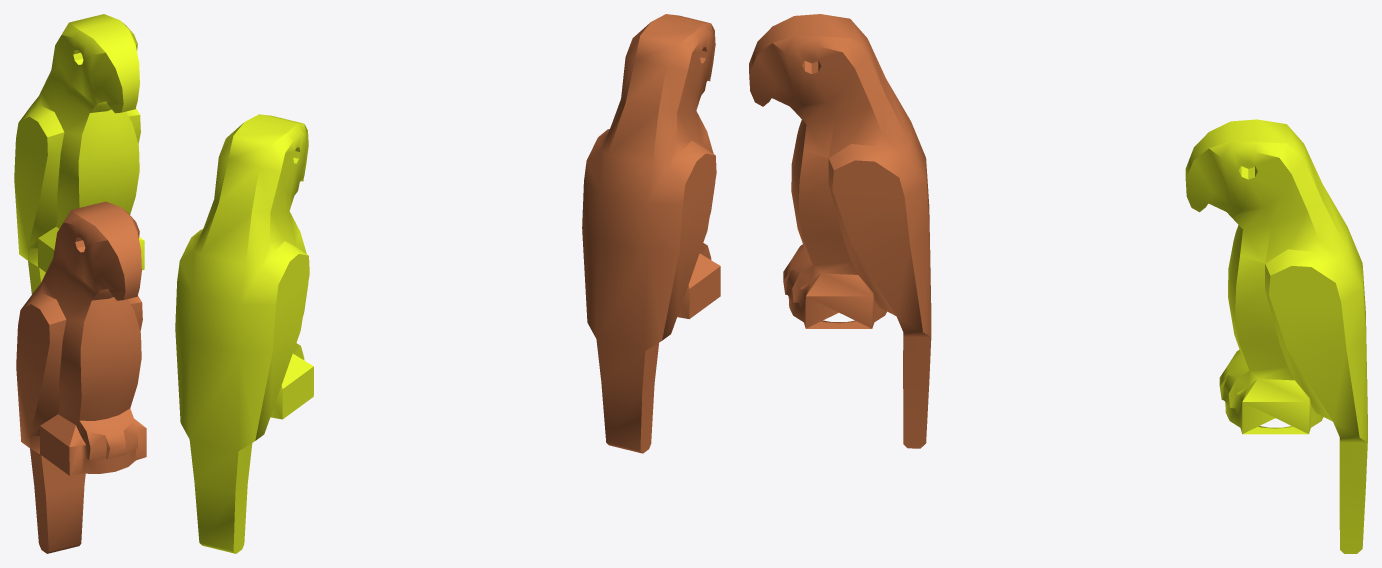
The model's file is Parrot.dae.
The picture shows the model from 3 angles, left to right: view 1: azimuth 30°, elevation 25°; view 2: azimuth 150°, elevation 25°; view 3: azimuth 270°, elevation 25°; orthographic projection. The views are drawn at different scales.
Bounding box in the file's own units: 59.54 × 99.22 × 73.33.
